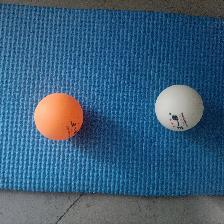WhiteBall: (154, 84, 204, 131)
YellowBall: (33, 92, 83, 140)
